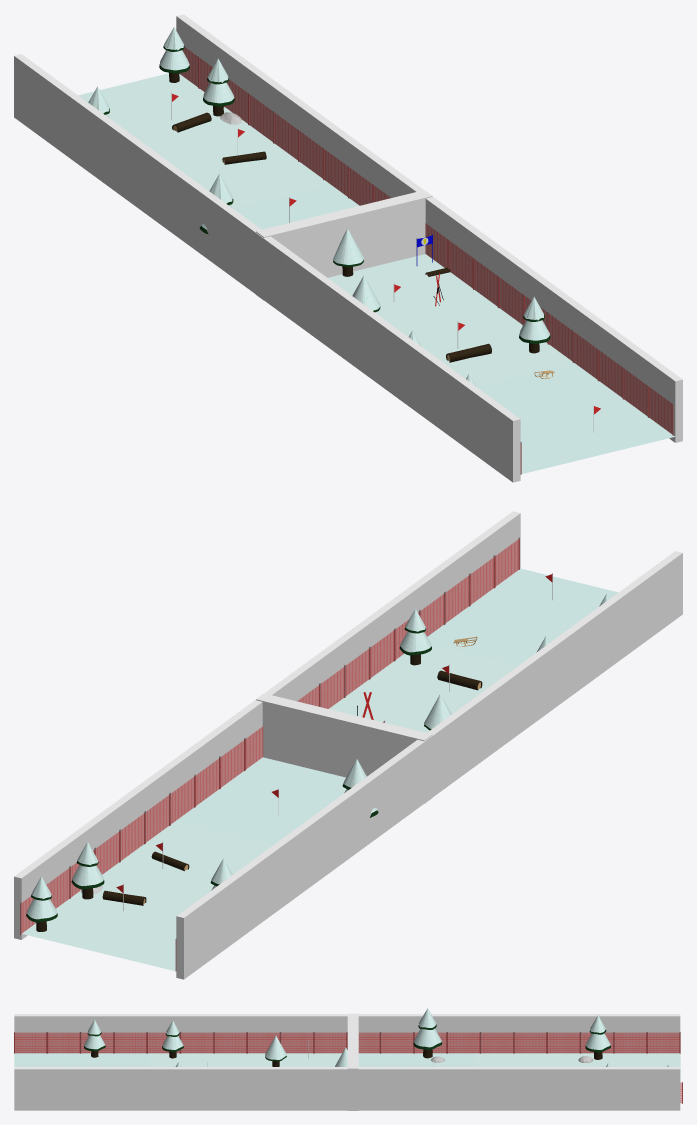
3 renders of one model, top to bottom at view 1: azimuth 30°, elevation 25°; view 2: azimuth 150°, elevation 25°; view 3: azimuth 270°, elevation 25°, orthographic. The views are drawn at different scales.
Parts seen in each view (by area): view 1: Floor.010, Cube.022, Cube.018, Floor.009, Cube.019, Cube.021, Fence.003, Generate.004, Pinetree2.070, Pinetree2.042, Pinetree2.074, Pinetree1.027; view 2: Floor.009, Cube.018, Cube.022, Floor.010, Cube.021, Cube.019, Fence.003, Generate.004, Pinetree2.070, Pinetree2.042, Pinetree2.074; view 3: Cube.019, Cube.021, Fence.004, Cube.018, Cube.022, Floor.009, Floor.010, Pinetree2.021, Generate.004, Pinetree2.069, Pinetree2.044, Pinetree2.036 (+1 smaller).
Part boxes in pixels (box(x1,y1,x2,y2)): Floor.010: box(328, 254, 674, 473); Cube.022: box(14, 54, 276, 304); Cube.018: box(269, 241, 520, 482); Floor.009: box(78, 73, 359, 229); Cube.019: box(426, 197, 682, 442); Cube.021: box(176, 14, 439, 257); Fence.003: box(179, 47, 673, 435); Generate.004: box(256, 190, 432, 300); Pinetree2.070: box(203, 58, 234, 116); Pinetree2.042: box(519, 296, 550, 353); Pinetree2.074: box(159, 27, 189, 82); Pinetree1.027: box(333, 228, 363, 276); Floor.009: box(22, 757, 346, 971); Cube.018: box(427, 551, 682, 801); Cube.022: box(176, 739, 427, 979); Floor.010: box(329, 568, 618, 732); Cube.021: box(14, 690, 276, 939); Cube.019: box(264, 511, 520, 708); Fence.003: box(20, 537, 519, 935); Generate.004: box(256, 693, 432, 803); Pinetree2.070: box(71, 842, 104, 899); Pinetree2.042: box(399, 608, 431, 665); Pinetree2.074: box(26, 876, 57, 931); Cube.019: box(14, 1067, 355, 1110); Cube.021: box(339, 1067, 680, 1110); Fence.004: box(14, 1031, 680, 1053); Cube.018: box(14, 1014, 347, 1053); Cube.022: box(339, 1014, 680, 1053); Floor.009: box(358, 1053, 680, 1103); Floor.010: box(14, 1053, 341, 1066); Pinetree2.021: box(413, 1008, 442, 1058); Generate.004: box(347, 1013, 358, 1110); Pinetree2.069: box(585, 1015, 610, 1059); Pinetree2.044: box(162, 1021, 183, 1058); Pinetree2.036: box(84, 1020, 105, 1057).
Bounding box in the file's own units: 22.02 × 9.91 × 111.
